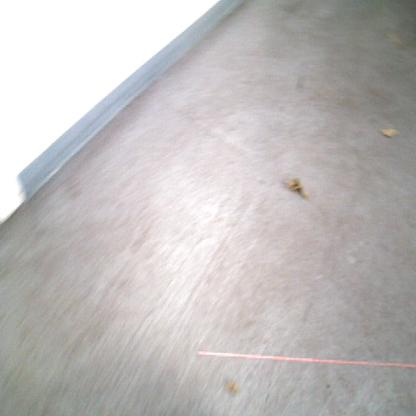dirty: (280, 175, 309, 199), (383, 30, 406, 48), (224, 378, 239, 396), (378, 125, 398, 138)
mark: (300, 300, 314, 325), (295, 74, 306, 89), (324, 380, 333, 391), (264, 391, 271, 403)
